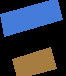parkingspot: (0, 0, 62, 36), (12, 47, 56, 76)
